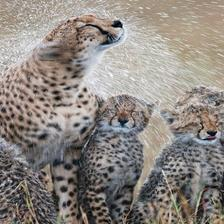Cheetah: (1, 12, 126, 224), (47, 96, 161, 221), (127, 105, 224, 224)
